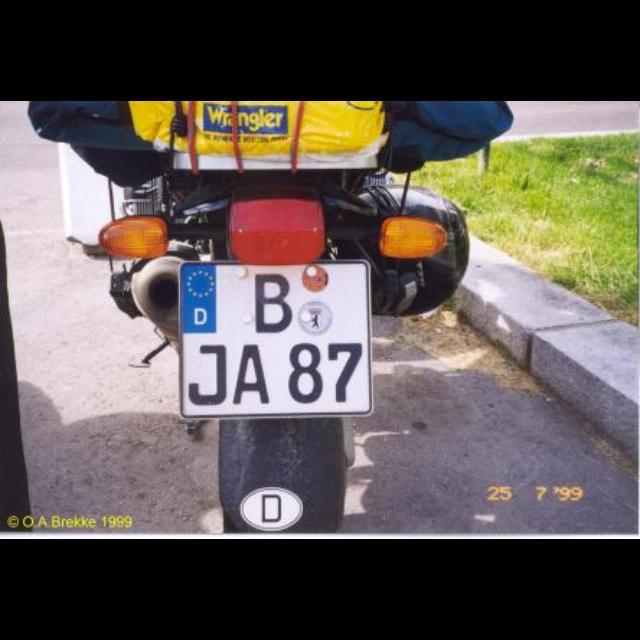license-plates: (179, 262, 371, 419)
